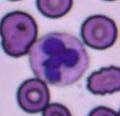N: (28, 31, 90, 85)
